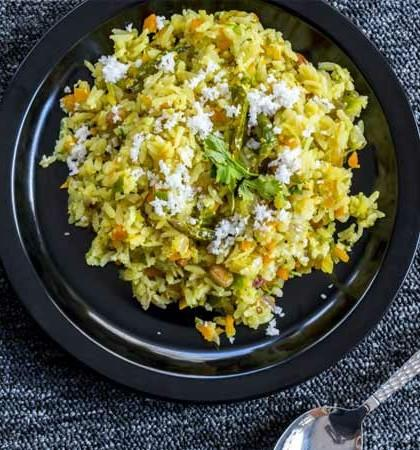Poha: (53, 10, 378, 341)
